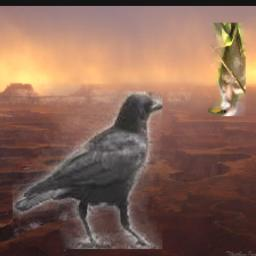Crow: (14, 92, 163, 249)
Cuckoo: (209, 24, 247, 117)
